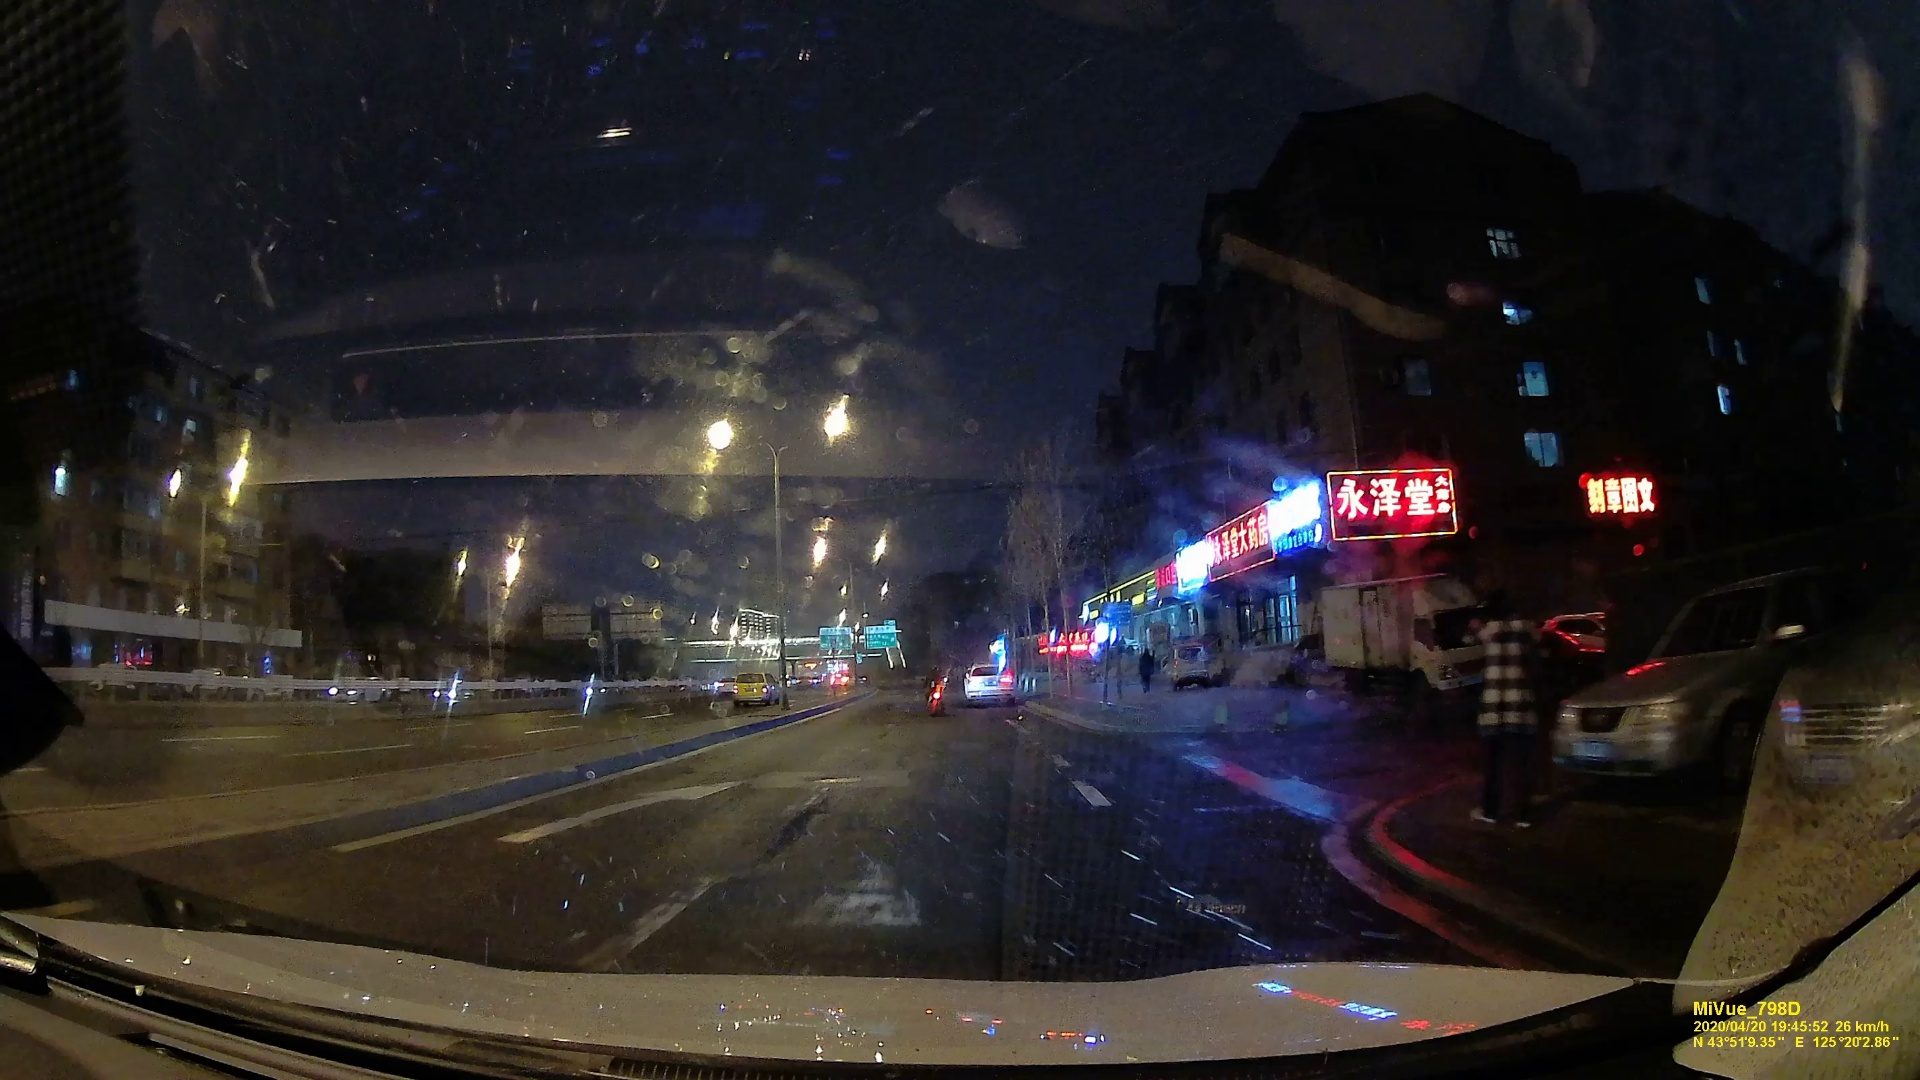person: (1453, 579, 1559, 827), (1136, 647, 1154, 692), (923, 665, 943, 700)
traffic_sign: (863, 626, 894, 648), (820, 627, 848, 650)
truck: (1314, 577, 1482, 700)
vehicle: (962, 662, 1019, 705), (733, 673, 780, 706)
